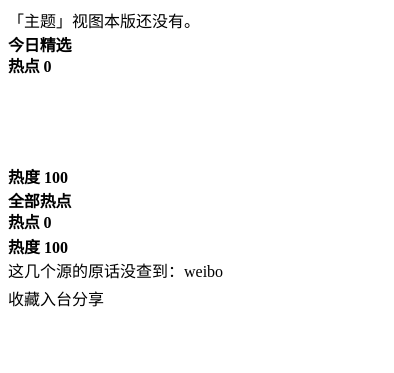
Test: PLAZA-04 卡片三动作 › 「这类目标不支持」与「还没接」NEVER 共用一句话
Click the button with test id "action-share" at (88, 298), box x1=72 y1=282 x2=104 y2=314
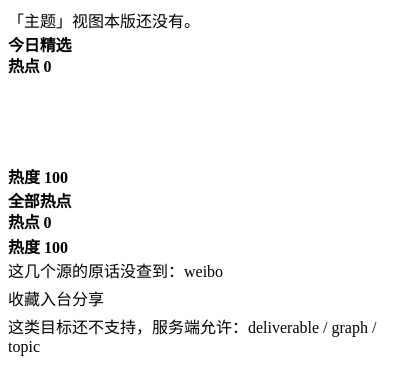
Expected: the message with test id "action-outcome" shows "deliverable / graph / topic", x1=8 y1=319 x2=376 y2=355
